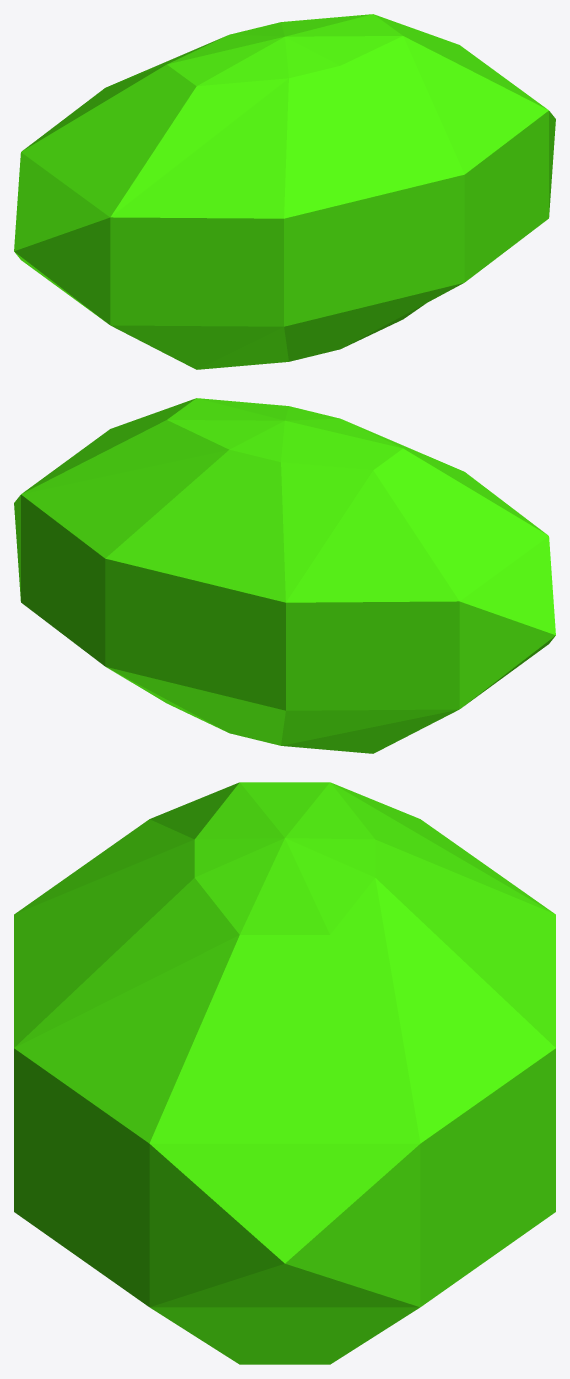
3 views of the same model, one above another, from view 1: azimuth 30°, elevation 25°; view 2: azimuth 150°, elevation 25°; view 3: azimuth 270°, elevation 25° (orthographic). The views are drawn at different scales.
Parts seen in each view (by area): view 1: 2816; view 2: 2816; view 3: 2816.
Boxes of the visible parts, left/top/right/bottom form: 2816: left=14, top=14, right=555, bottom=369; 2816: left=14, top=398, right=555, bottom=753; 2816: left=14, top=782, right=555, bottom=1364.
Size of the model in its own units: 42 by 22 by 24.
